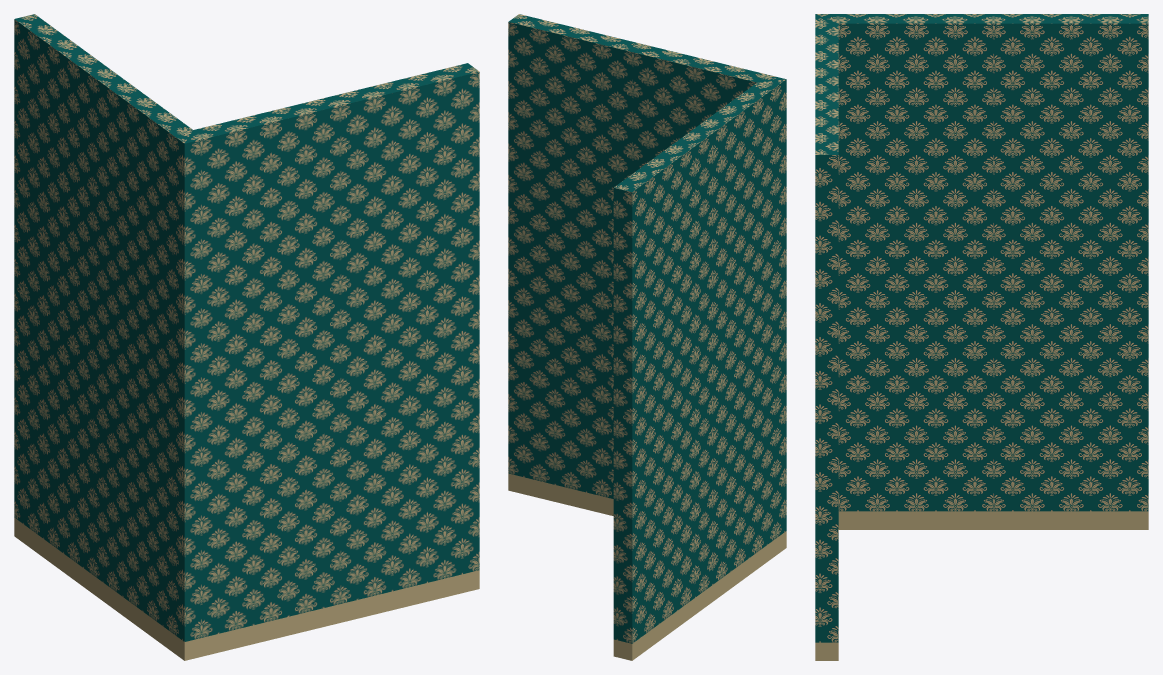
The model's file is ARC0210020.fbx.
3 views of the same model, side by side, from view 1: azimuth 30°, elevation 25°; view 2: azimuth 150°, elevation 25°; view 3: azimuth 270°, elevation 25° (orthographic). The views are drawn at different scales.
Visible parts, largest first — view 1: smARC0210020; view 2: smARC0210020; view 3: smARC0210020.
Part boxes in pixels (<box>): smARC0210020: <box>14,14,479,660</box>; smARC0210020: <box>508,14,786,660</box>; smARC0210020: <box>815,14,1148,660</box>.
Size of the model in its own units: 196 by 328 by 196.
Materials: 1 (1 with a texture image).
